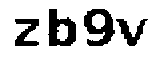9: (81, 6, 116, 52)
b: (46, 6, 78, 50)
v: (116, 14, 148, 50)
z: (10, 14, 43, 50)
